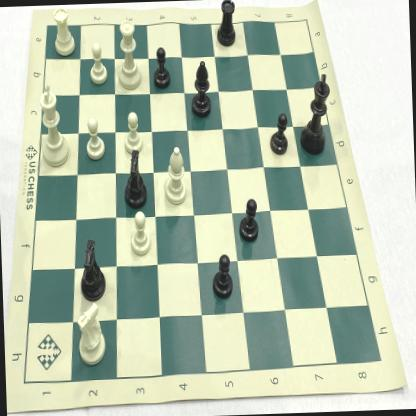black-bishop: (186, 54, 218, 122)
black-king: (296, 66, 336, 160)
black-knight: (74, 234, 110, 304), (119, 146, 152, 214)
black-pawn: (210, 247, 237, 303), (235, 194, 262, 248), (148, 42, 175, 94), (266, 108, 291, 160)
black-rook: (212, 0, 239, 54)
white-bishop: (160, 140, 189, 209)
white-king: (34, 81, 74, 170)
white-knight: (73, 298, 108, 366)
white-pawn: (124, 206, 154, 262), (82, 112, 110, 164), (86, 40, 112, 88), (122, 107, 146, 158)
white-queen: (114, 16, 145, 94)
white-rook: (50, 5, 80, 60)
